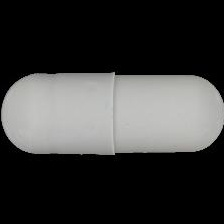54868-6083: (0, 0, 224, 224)
